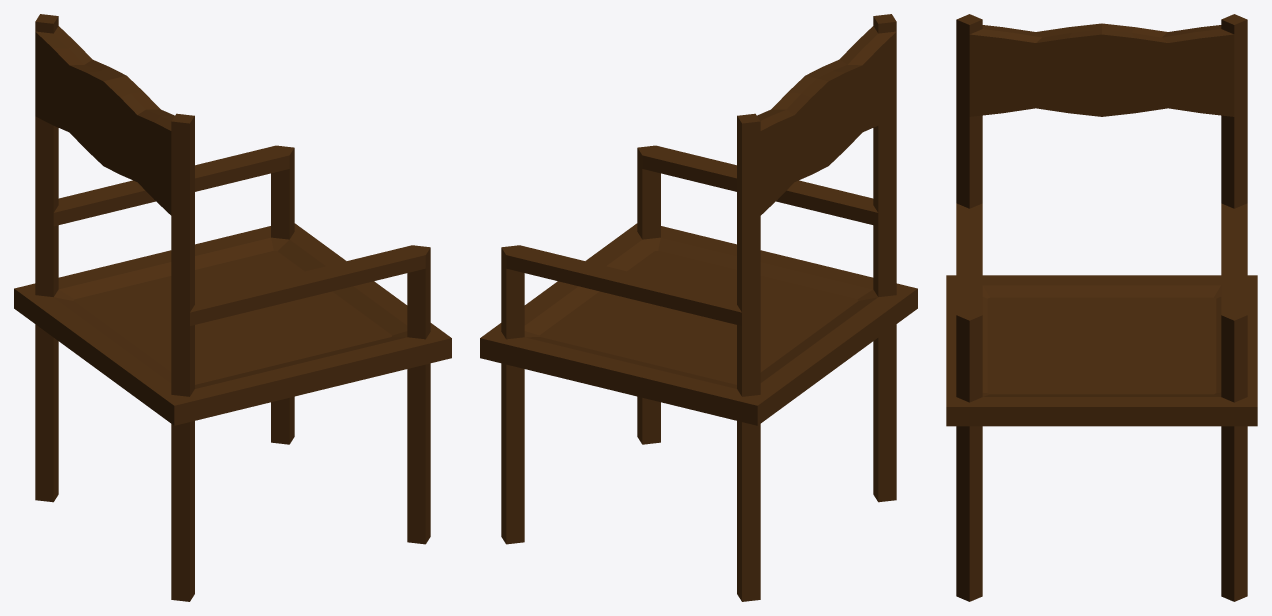
Rendered from Dining Chair.fbx.
3 renders of one model, left to right at view 1: azimuth 30°, elevation 25°; view 2: azimuth 150°, elevation 25°; view 3: azimuth 270°, elevation 25°, orthographic. The views are drawn at different scales.
Parts seen in each view (by area): view 1: Chair.001; view 2: Chair.001; view 3: Chair.001.
Boxes of the visible parts, left/top/right/bottom form: Chair.001: left=14, top=14, right=451, bottom=601; Chair.001: left=480, top=14, right=917, bottom=601; Chair.001: left=946, top=14, right=1257, bottom=601.
Size of the model in its own units: 79.44 by 79.44 by 131.
